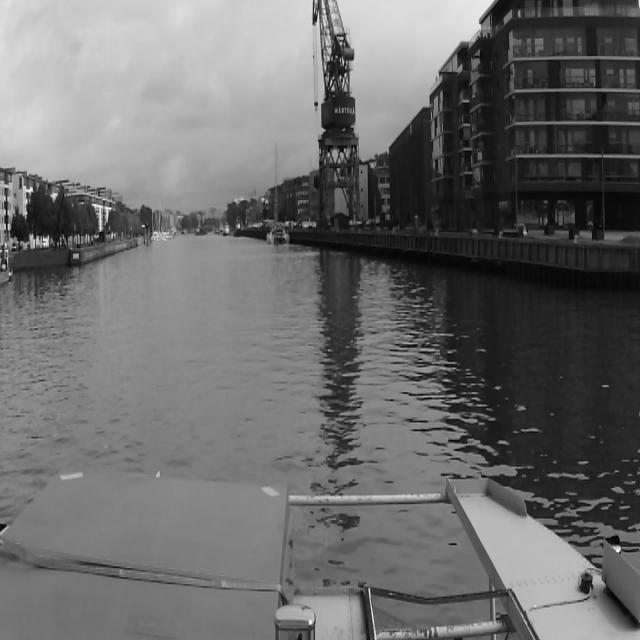ship: (266, 140, 290, 246), (194, 228, 208, 234), (224, 222, 230, 236)
